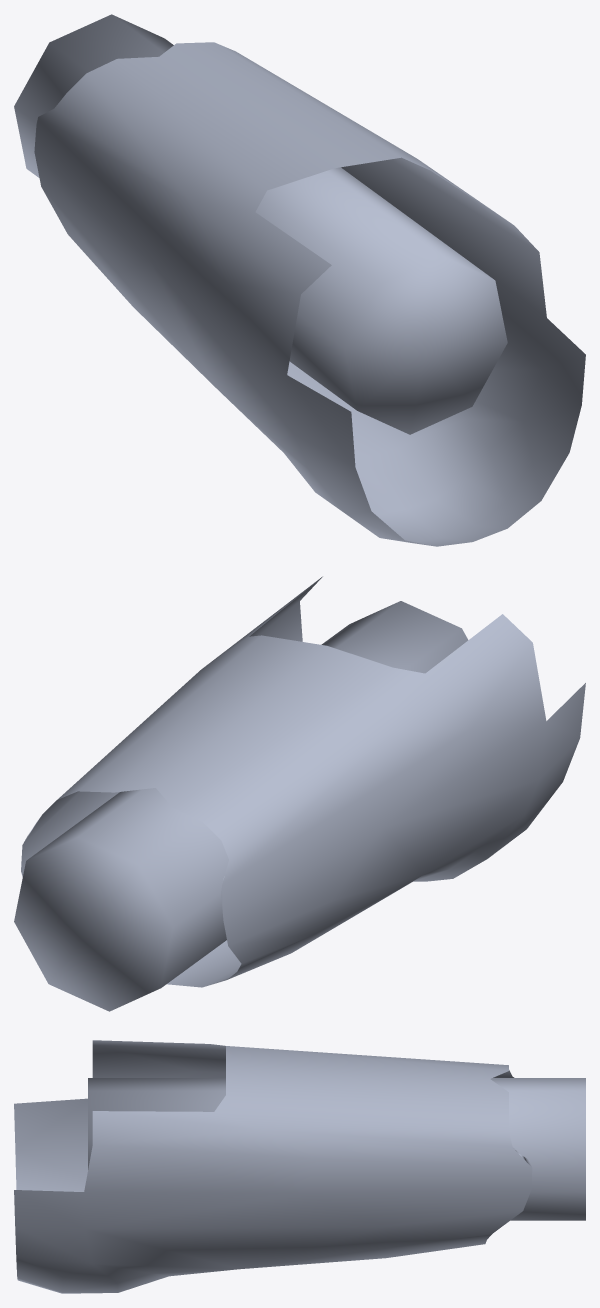
The model's file is r_shank.dae.
The picture shows the model from 3 angles, top to bottom: view 1: azimuth 30°, elevation 25°; view 2: azimuth 150°, elevation 25°; view 3: azimuth 270°, elevation 25°; orthographic projection. The views are drawn at different scales.
Parts seen in each view (by area): view 1: r_shank_mesh; view 2: r_shank_mesh; view 3: r_shank_mesh.
Boxes of the visible parts, left/top/right/bottom form: r_shank_mesh: left=14, top=14, right=585, bottom=546; r_shank_mesh: left=14, top=576, right=585, bottom=1011; r_shank_mesh: left=14, top=1040, right=585, bottom=1293.
Size of the model in its own units: 0.0961 by 0.2446 by 0.1035.
